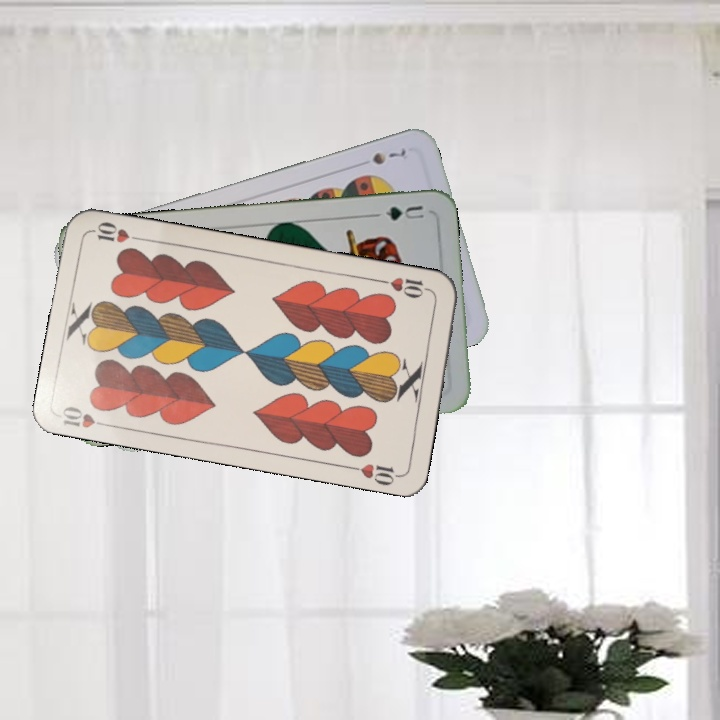GU: (381, 201, 427, 224)
H10: (58, 402, 115, 431), (375, 273, 434, 301)
S7: (368, 145, 409, 168)
